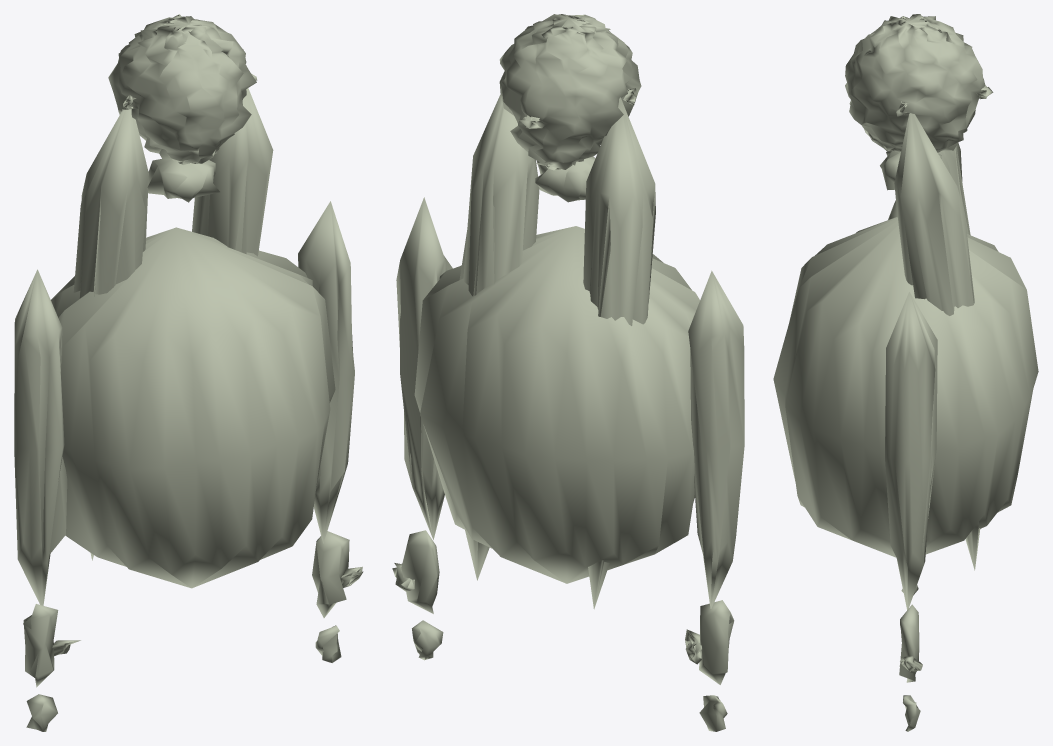
File: zombie_ravager.glb
The picture shows the model from 3 angles, left to right: view 1: azimuth 30°, elevation 25°; view 2: azimuth 150°, elevation 25°; view 3: azimuth 270°, elevation 25°; orthographic projection. The views are drawn at different scales.
Visible parts, largest first — view 1: zombie_ravager; view 2: zombie_ravager; view 3: zombie_ravager.
Part boxes in pixels (<box>): zombie_ravager: <box>14,14,363,731</box>; zombie_ravager: <box>392,14,744,731</box>; zombie_ravager: <box>773,14,1038,731</box>.
Size of the model in its own units: 0.6737 by 1.24 by 0.4636.
